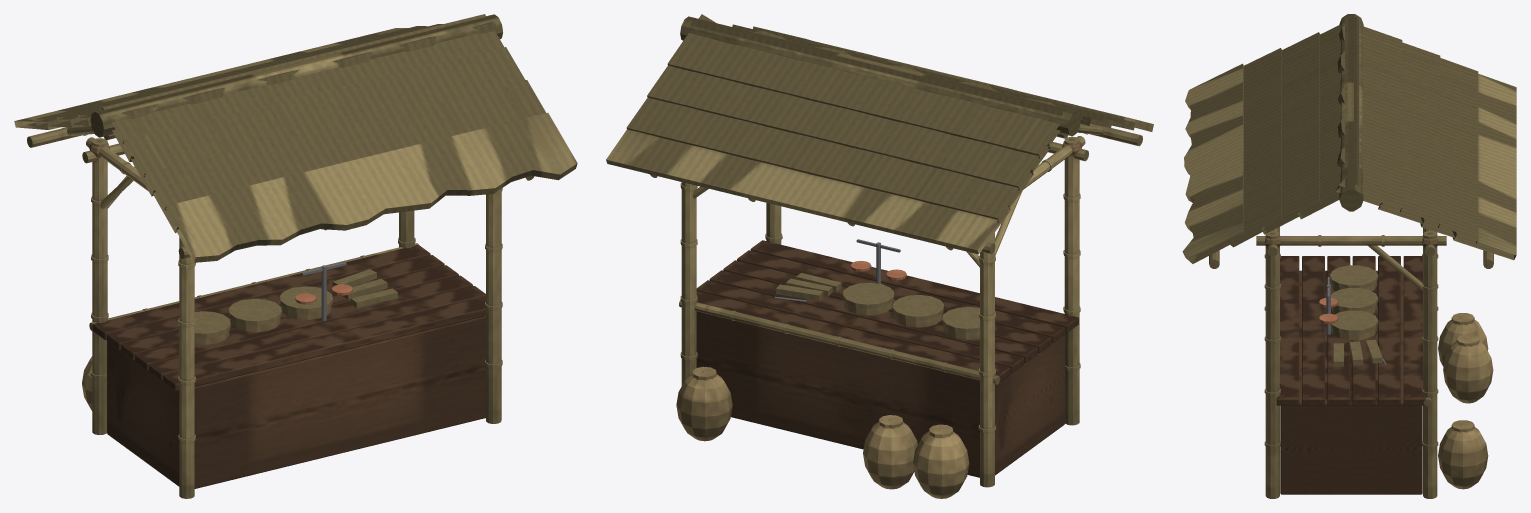
The model's file is market_stall_provisions.glb.
3 renders of one model, left to right at view 1: azimuth 30°, elevation 25°; view 2: azimuth 150°, elevation 25°; view 3: azimuth 270°, elevation 25°, orthographic. The views are drawn at different scales.
Parts seen in each view (by area): view 1: Counter_Base.004, Ola_Back_0.004, Ola_Back_1.004, Ola_Back_2.004, Ola_Back_3.004, Counter_Plank_0.004, Ola_Ridge_Cap.004, Counter_Plank_1.004, Counter_Plank_5.004, Bamboo_Pillar_2.004, Bamboo_Pillar_0.004, Bamboo_Pillar_1.004 (+12 smaller); view 2: Counter_Base.004, Ola_Front_0.004, Ola_Front_3.004, Ola_Front_1.004, Ola_Front_2.004, Ola_Ridge_Cap.004, Counter_Plank_4.004, Counter_Plank_0.004, Bamboo_Pillar_0.004, Counter_Plank_5.004, Bamboo_Pillar_2.004, Counter_Plank_1.004 (+14 smaller); view 3: Counter_Base.004, Ola_Back_0.004, Ola_Front_3.004, Ola_Front_0.004, Ola_Front_2.004, Ola_Front_1.004, Ola_Back_2.004, Ola_Back_1.004, Ola_Back_3.004, Bamboo_Pillar_1.004, Bamboo_Pillar_3.004, Counter_Plank_1.004 (+14 smaller).
Boxes of the visible parts, x1=… form: Counter_Base.004: x1=107, y1=316, x2=485, y2=488; Ola_Back_0.004: x1=164, y1=113, x2=577, y2=262; Ola_Back_1.004: x1=143, y1=80, x2=545, y2=233; Ola_Back_2.004: x1=122, y1=47, x2=525, y2=196; Ola_Back_3.004: x1=102, y1=14, x2=503, y2=161; Counter_Plank_0.004: x1=163, y1=296, x2=485, y2=391; Ola_Ridge_Cap.004: x1=90, y1=14, x2=502, y2=137; Counter_Plank_1.004: x1=149, y1=286, x2=485, y2=380; Counter_Plank_5.004: x1=93, y1=244, x2=430, y2=339; Bamboo_Pillar_2.004: x1=92, y1=138, x2=107, y2=434; Bamboo_Pillar_0.004: x1=179, y1=237, x2=194, y2=498; Bamboo_Pillar_1.004: x1=486, y1=192, x2=501, y2=423; Counter_Base.004: x1=696, y1=311, x2=1064, y2=477; Ola_Front_0.004: x1=606, y1=129, x2=1010, y2=254; Ola_Front_3.004: x1=667, y1=14, x2=1060, y2=158; Ola_Front_1.004: x1=626, y1=97, x2=1033, y2=222; Ola_Front_2.004: x1=647, y1=65, x2=1049, y2=190; Ola_Ridge_Cap.004: x1=680, y1=16, x2=1080, y2=136; Counter_Plank_4.004: x1=696, y1=280, x2=1024, y2=372; Counter_Plank_0.004: x1=750, y1=240, x2=1078, y2=332; Bamboo_Pillar_0.004: x1=1064, y1=136, x2=1079, y2=425; Counter_Plank_5.004: x1=696, y1=291, x2=1010, y2=382; Bamboo_Pillar_2.004: x1=980, y1=232, x2=994, y2=487; Counter_Plank_1.004: x1=737, y1=250, x2=1065, y2=342; Counter_Base.004: x1=1280, y1=270, x2=1422, y2=494; Ola_Back_0.004: x1=1182, y1=63, x2=1245, y2=263; Ola_Front_3.004: x1=1335, y1=25, x2=1402, y2=212; Ola_Front_0.004: x1=1452, y1=74, x2=1516, y2=260; Ola_Front_2.004: x1=1378, y1=42, x2=1440, y2=228; Ola_Front_1.004: x1=1420, y1=58, x2=1478, y2=244; Ola_Back_2.004: x1=1261, y1=32, x2=1321, y2=234; Ola_Back_1.004: x1=1227, y1=48, x2=1283, y2=247; Ola_Back_3.004: x1=1297, y1=16, x2=1358, y2=219; Bamboo_Pillar_1.004: x1=1265, y1=231, x2=1279, y2=498; Bamboo_Pillar_3.004: x1=1423, y1=231, x2=1437, y2=498; Counter_Plank_1.004: x1=1302, y1=256, x2=1324, y2=405.
Size of the model in its own units: 3.28 by 2.91 by 2.63.
2 materials, 1 textured.
